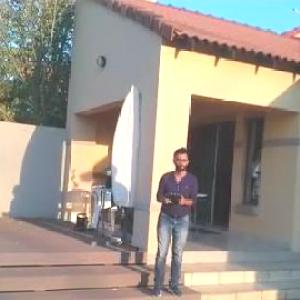follow: (152, 142, 206, 299)
